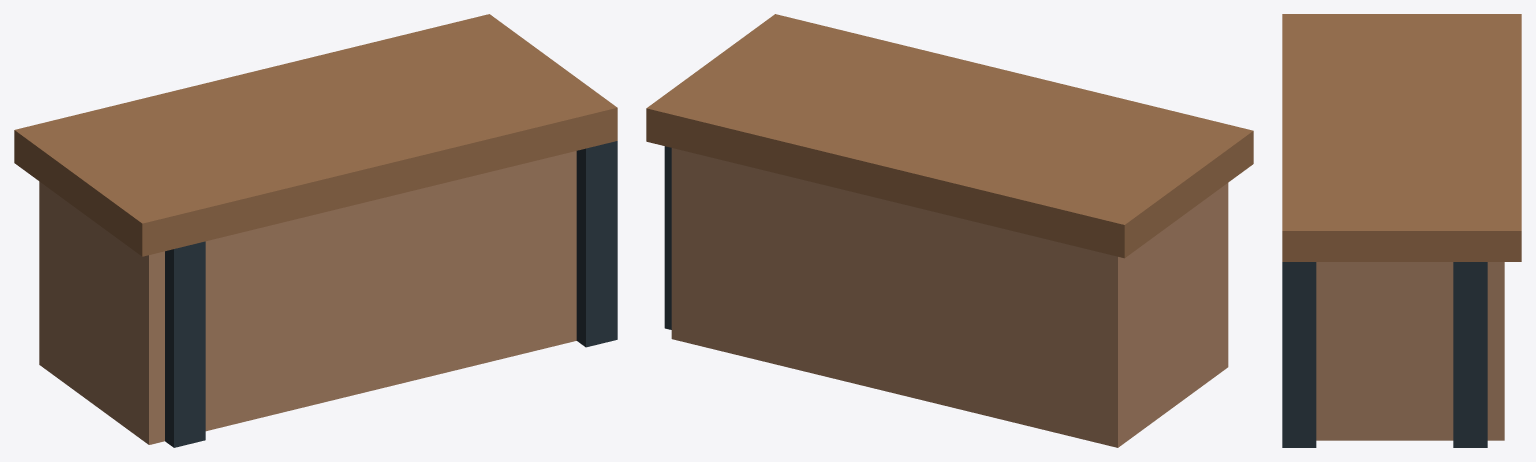
Rendered from food-02.glb.
The picture shows the model from 3 angles, left to right: view 1: azimuth 30°, elevation 25°; view 2: azimuth 150°, elevation 25°; view 3: azimuth 270°, elevation 25°; orthographic projection. The views are drawn at different scales.
Parts seen in each view (by area): view 1: Chef counter; view 2: Chef counter; view 3: Chef counter.
Boxes of the visible parts, left/top/right/bottom form: Chef counter: left=14, top=14, right=617, bottom=447; Chef counter: left=646, top=14, right=1253, bottom=447; Chef counter: left=1282, top=14, right=1521, bottom=447.
Size of the model in its own units: 2.4 by 1.12 by 1.12.
